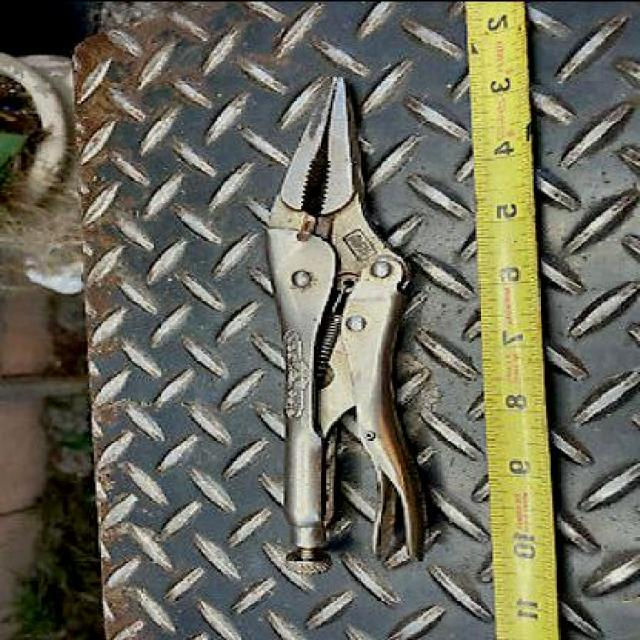Pliers: (264, 66, 433, 568)
